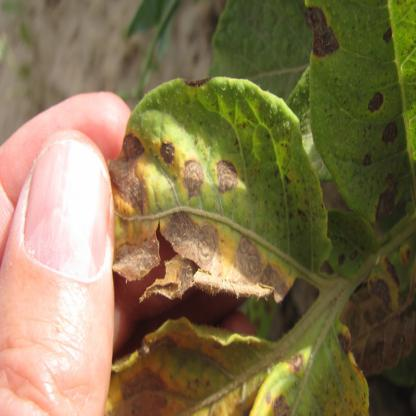potato leaf early blight: (92, 77, 336, 307), (98, 311, 376, 415)
